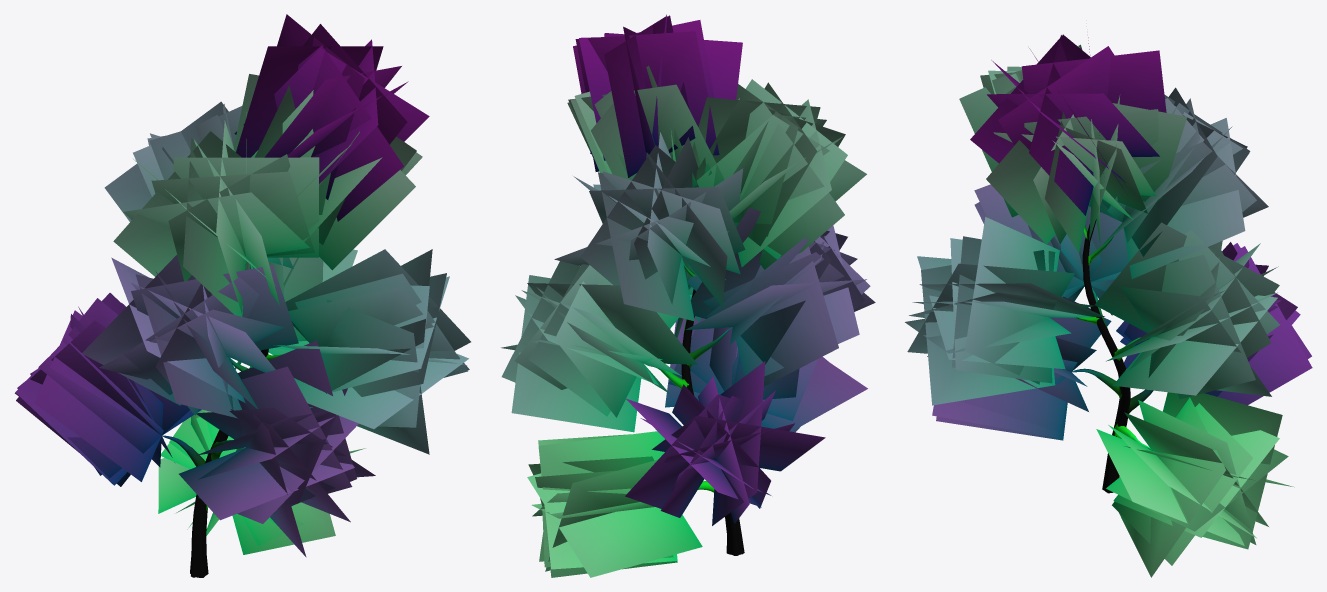
File: M_P6_Tree_4.fbx
The picture shows the model from 3 angles, left to right: view 1: azimuth 30°, elevation 25°; view 2: azimuth 150°, elevation 25°; view 3: azimuth 270°, elevation 25°; orthographic projection. The views are drawn at different scales.
Visible parts, largest first — view 1: Tree_4; view 2: Tree_4; view 3: Tree_4.
Boxes of the visible parts, x1,y1,x2,y2 form: Tree_4: (15, 14, 470, 577); Tree_4: (501, 14, 875, 577); Tree_4: (905, 34, 1312, 577).
Size of the model in its own units: 425 by 657 by 471.
